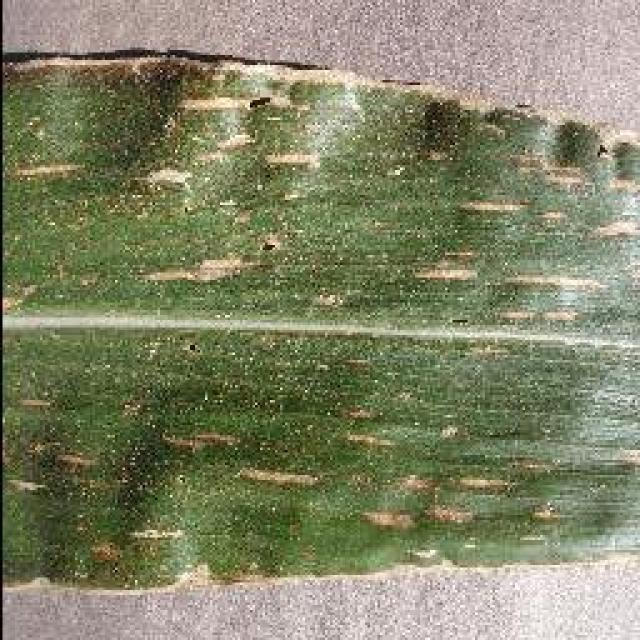Corn_Grey_Leaf_Spot: (20, 72, 600, 568)
